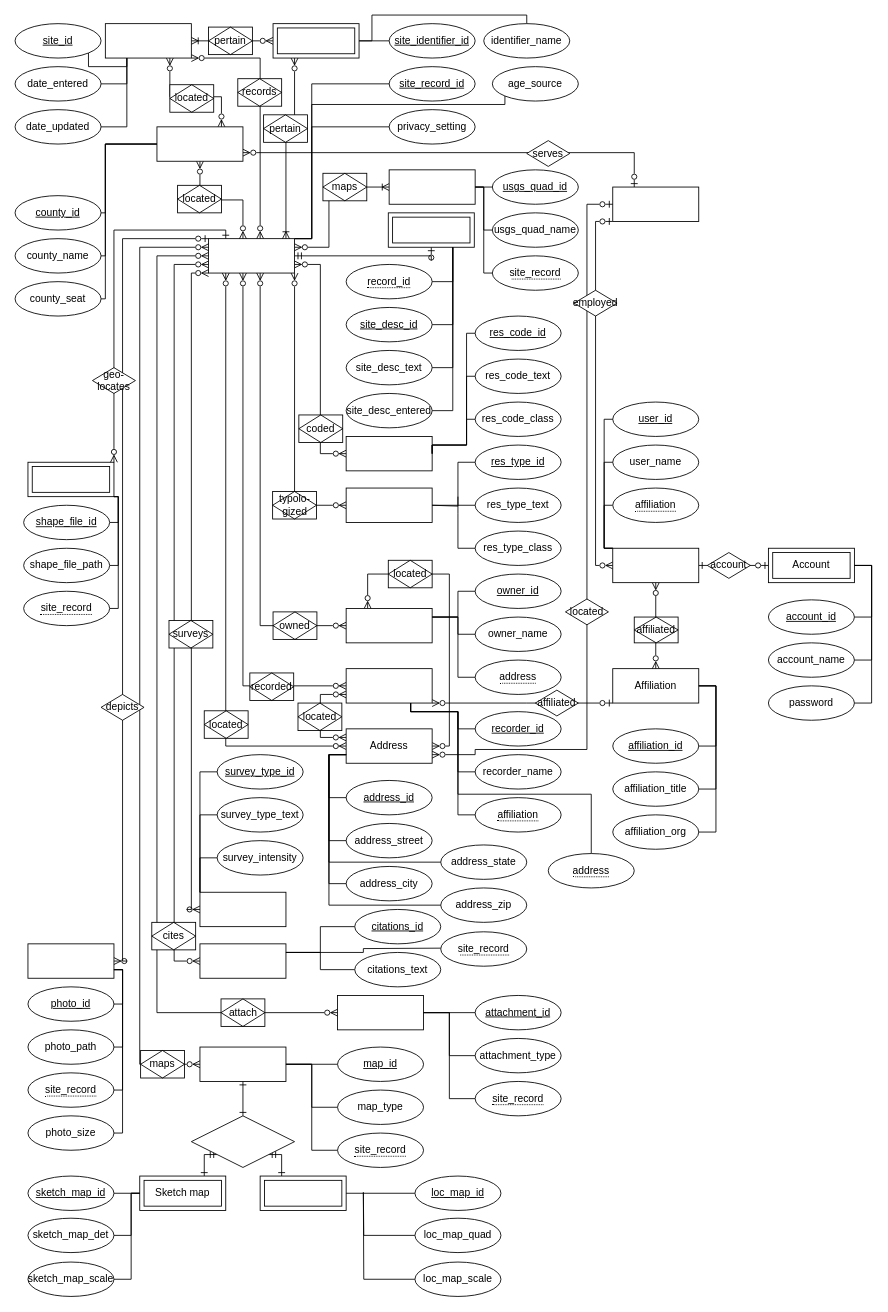
The diagram is 888 pixels wide and 1312 high, and some of its shapes have lost their labels. The shapes that lost their labels are listed below. From the top down, each one's centre as x and y in pixels, then its label:
At (x=147, y=40): "Site".
At (x=315, y=40): "Site identifier".
At (x=199, y=143): "County".
At (x=431, y=186): "USGS quad".
At (x=655, y=203): "Information Center".
At (x=430, y=229): "Site description".
At (x=251, y=255): "Site record".
At (x=388, y=453): "Resource code".
At (x=70, y=479): "Shape file".
At (x=388, y=504): "Resource type".
At (x=655, y=565): "User".
At (x=388, y=625): "Owner".
At (x=388, y=685): "Recorder".
At (x=242, y=909): "Survey type".
At (x=70, y=960): "Photo".
At (x=242, y=960): "Report citations".
At (x=380, y=1012): "Attachment".
At (x=242, y=1063): "Map".
At (x=242, y=1141): "ISA".
At (x=302, y=1192): "Location map".
